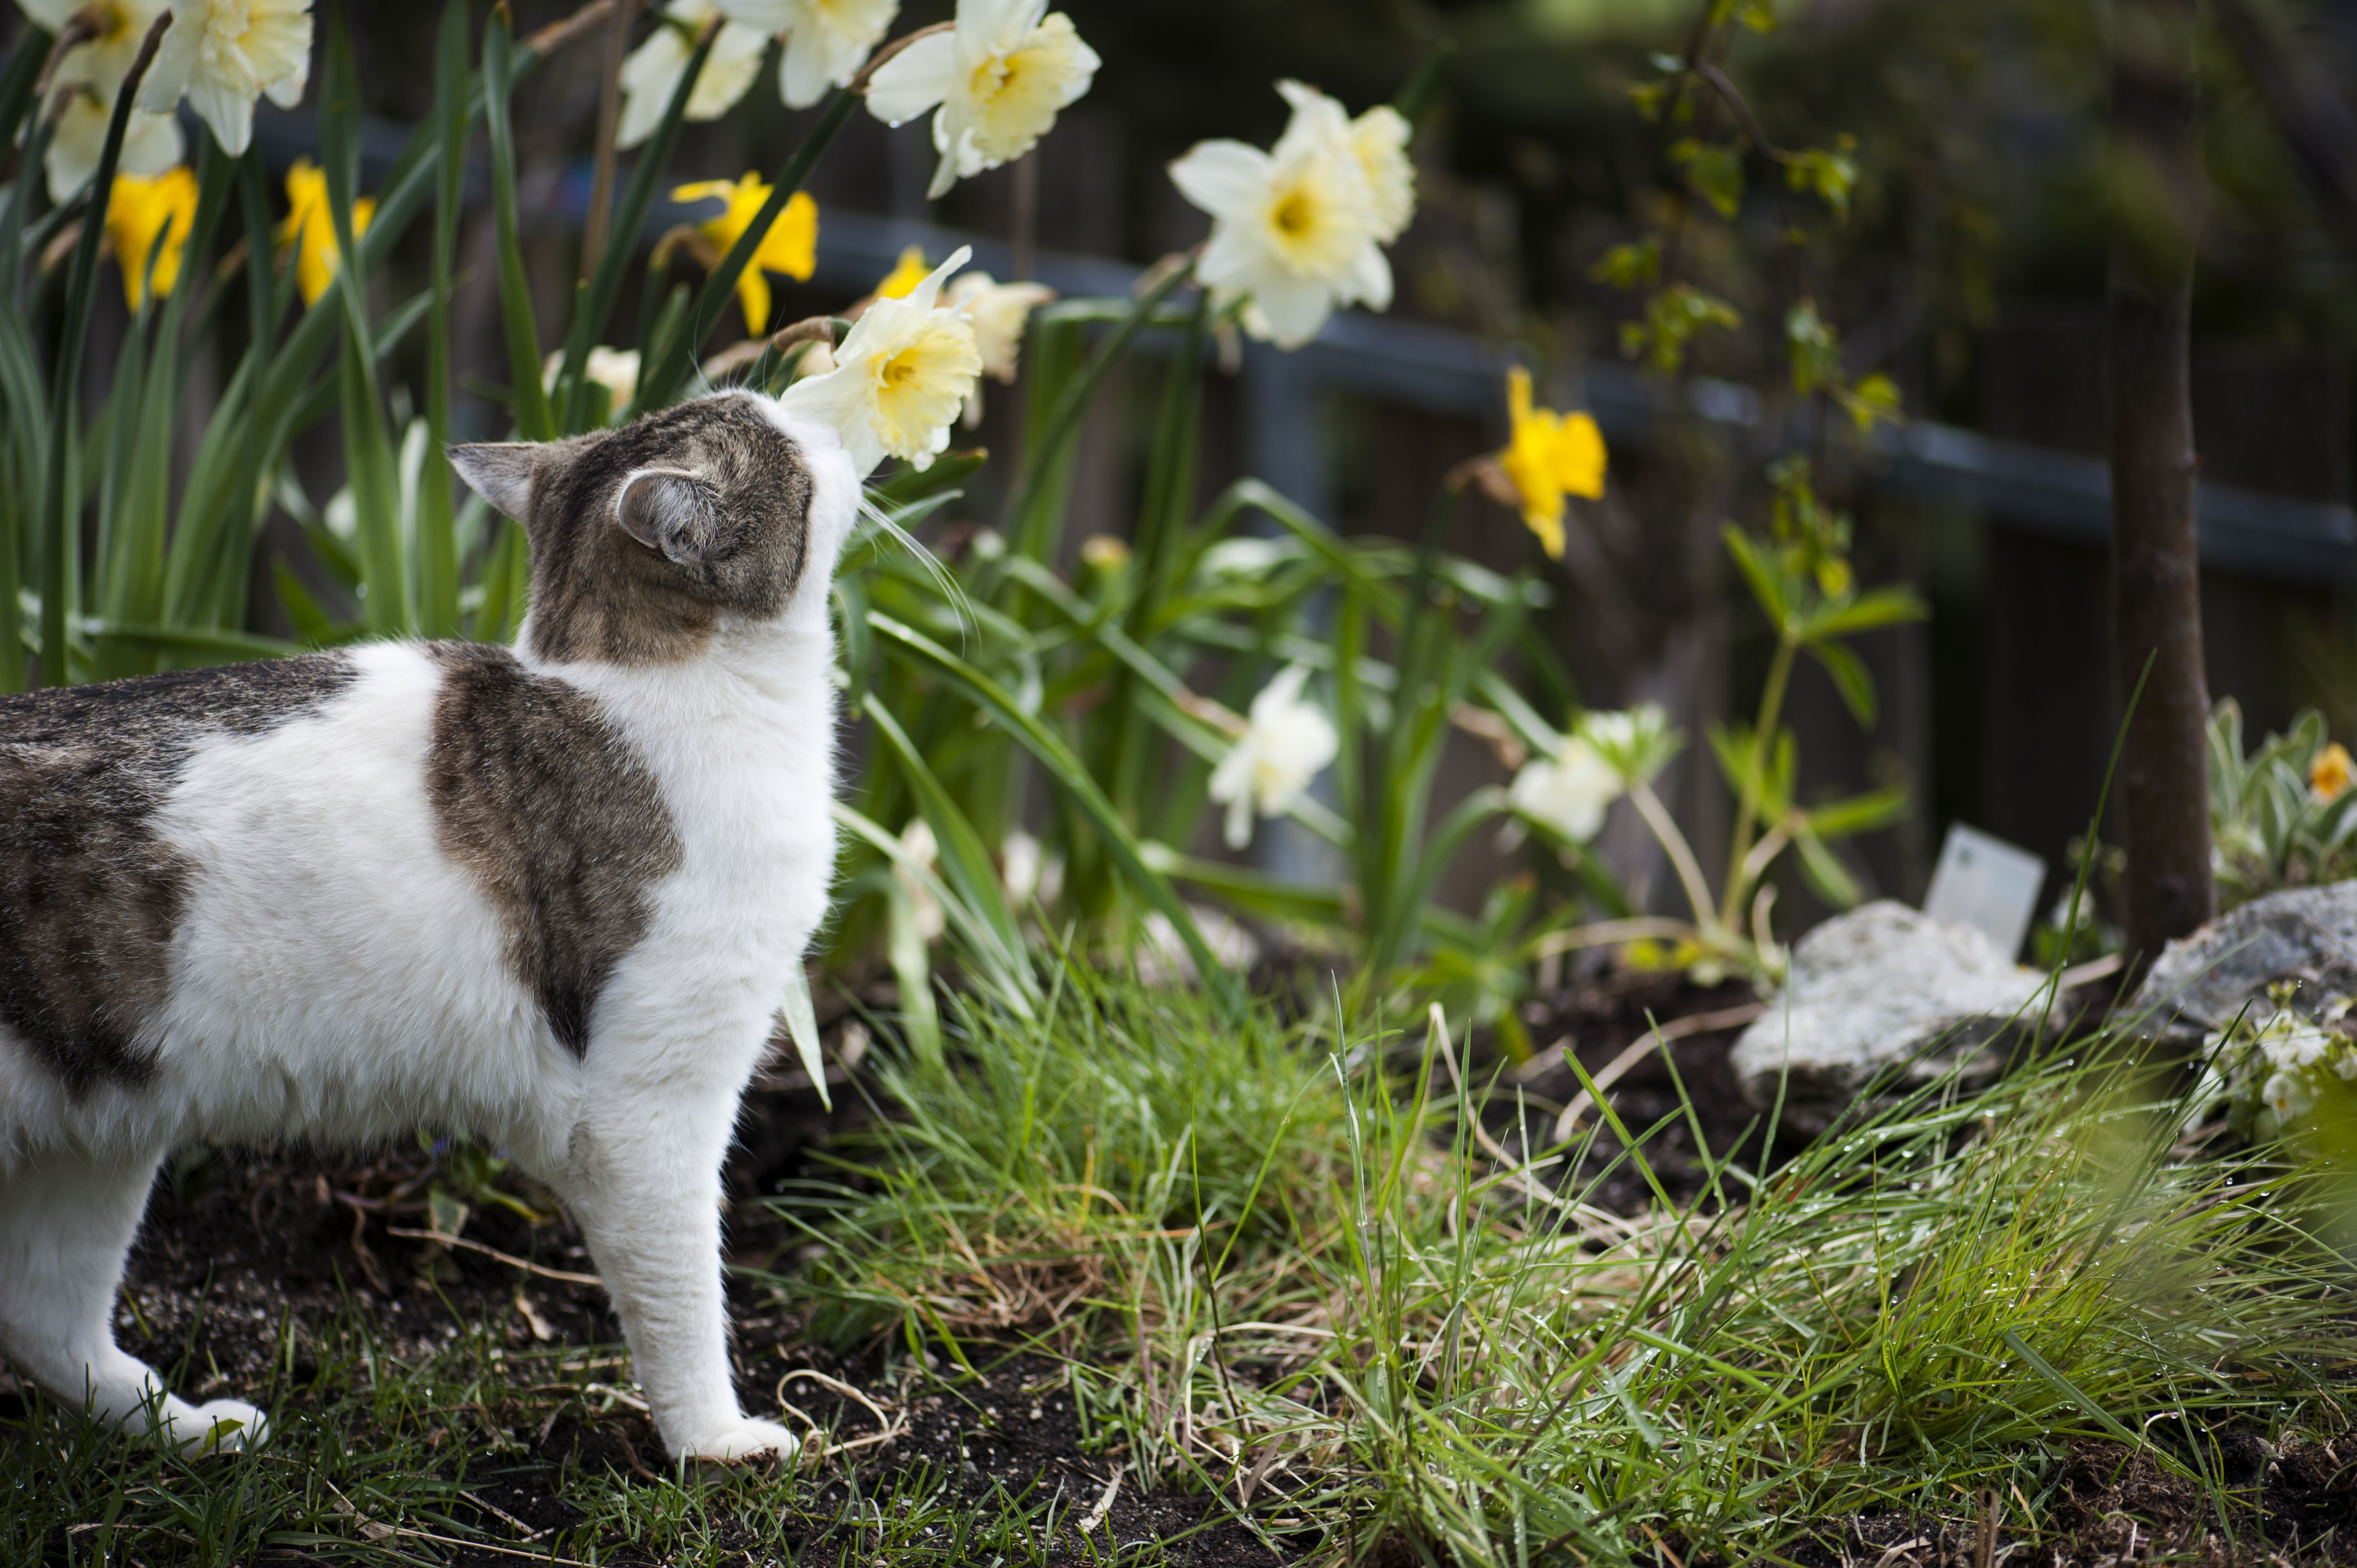cat: (0, 385, 849, 1416)
